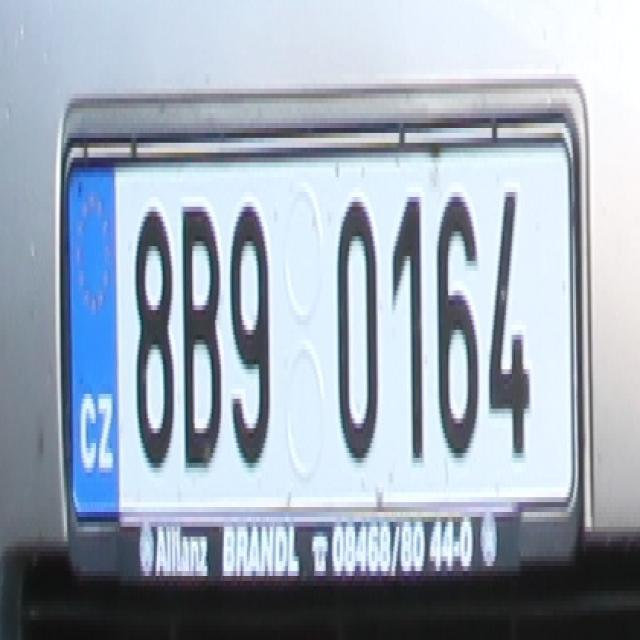0: (334, 177, 378, 463)
1: (386, 182, 432, 463)
4: (486, 192, 533, 473)
6: (436, 182, 482, 458)
8: (132, 197, 176, 468)
9: (228, 177, 272, 468)
B: (180, 192, 226, 473)
C: (73, 380, 95, 472)
Z: (98, 389, 112, 468)
